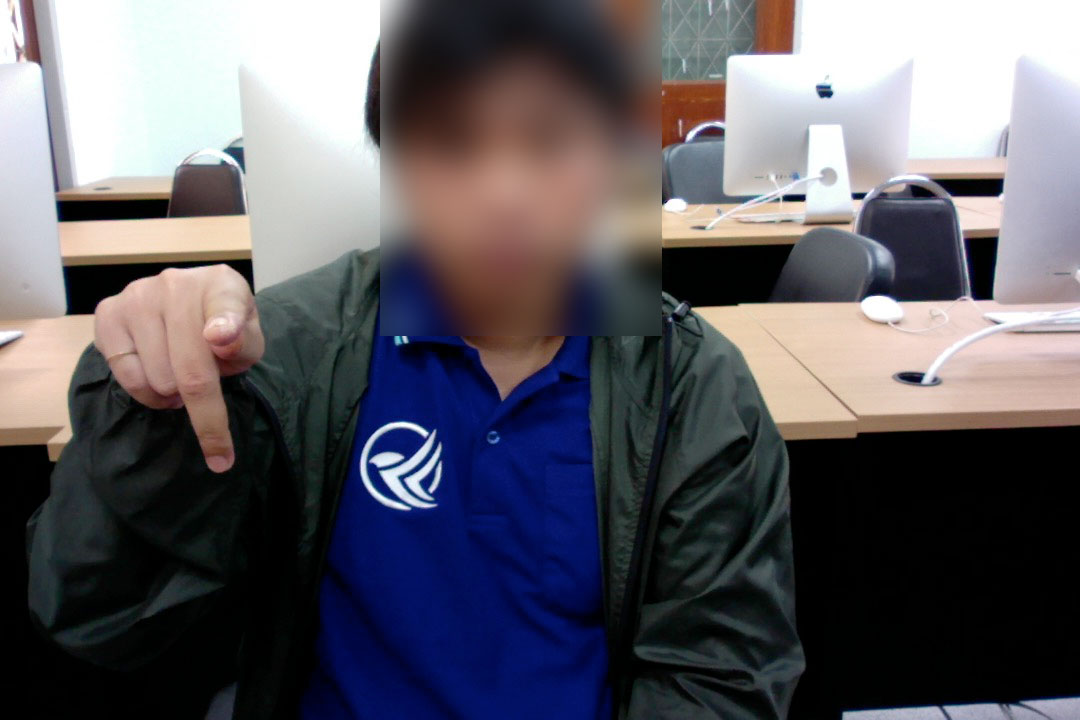por: (92, 264, 271, 477)
